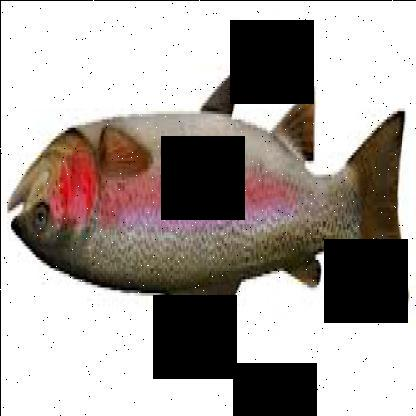fish: (9, 69, 408, 346)
